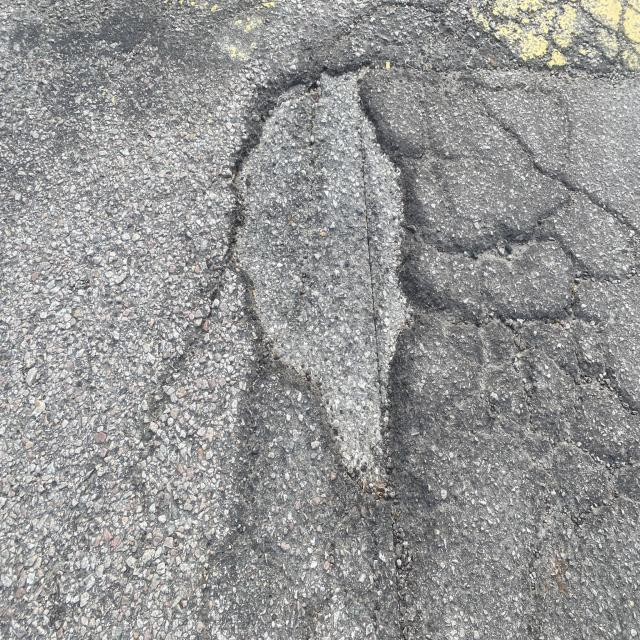pothole: (206, 35, 452, 553)
